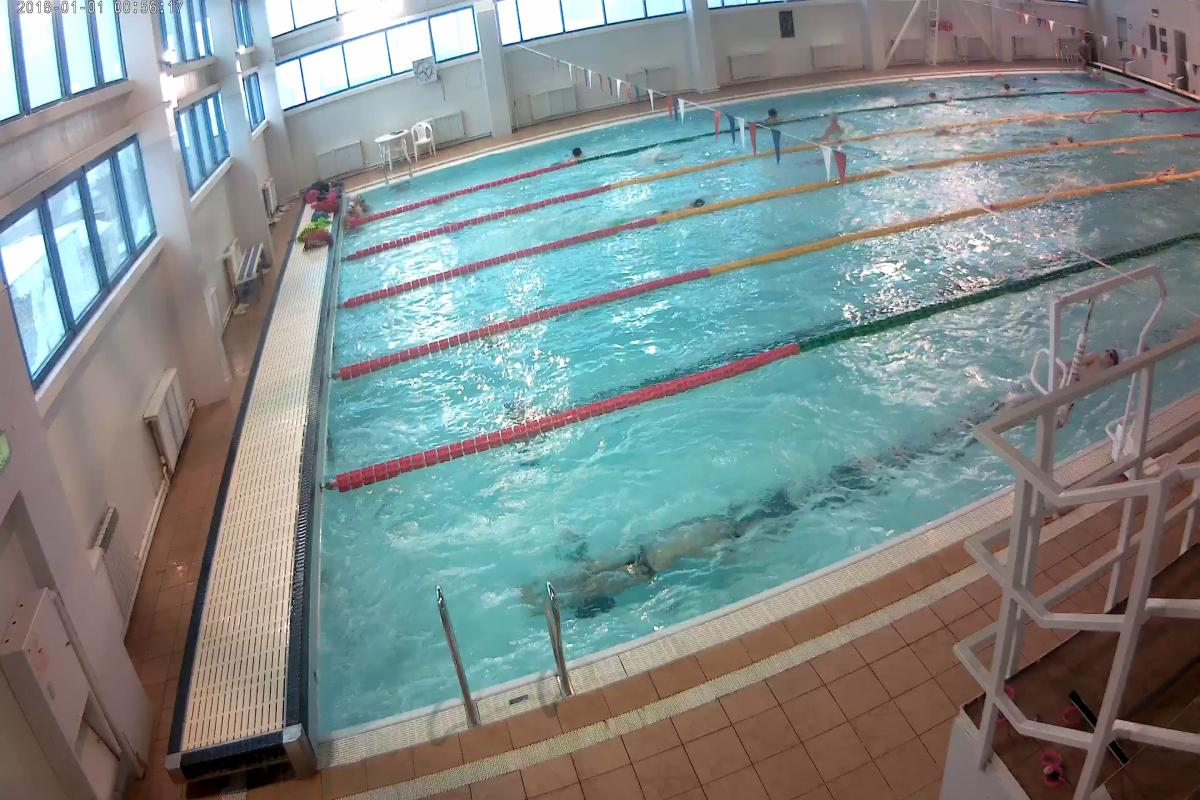swimmer: (584, 515, 730, 605), (1082, 342, 1124, 375), (662, 190, 708, 216), (815, 108, 847, 143), (1034, 130, 1079, 148), (1080, 105, 1102, 126)
